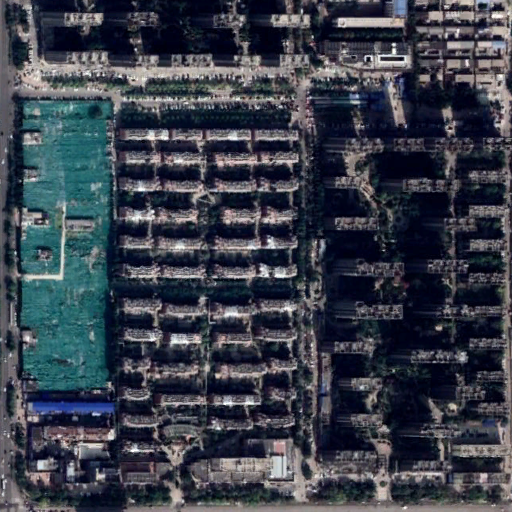cw: (21, 98, 110, 388)
